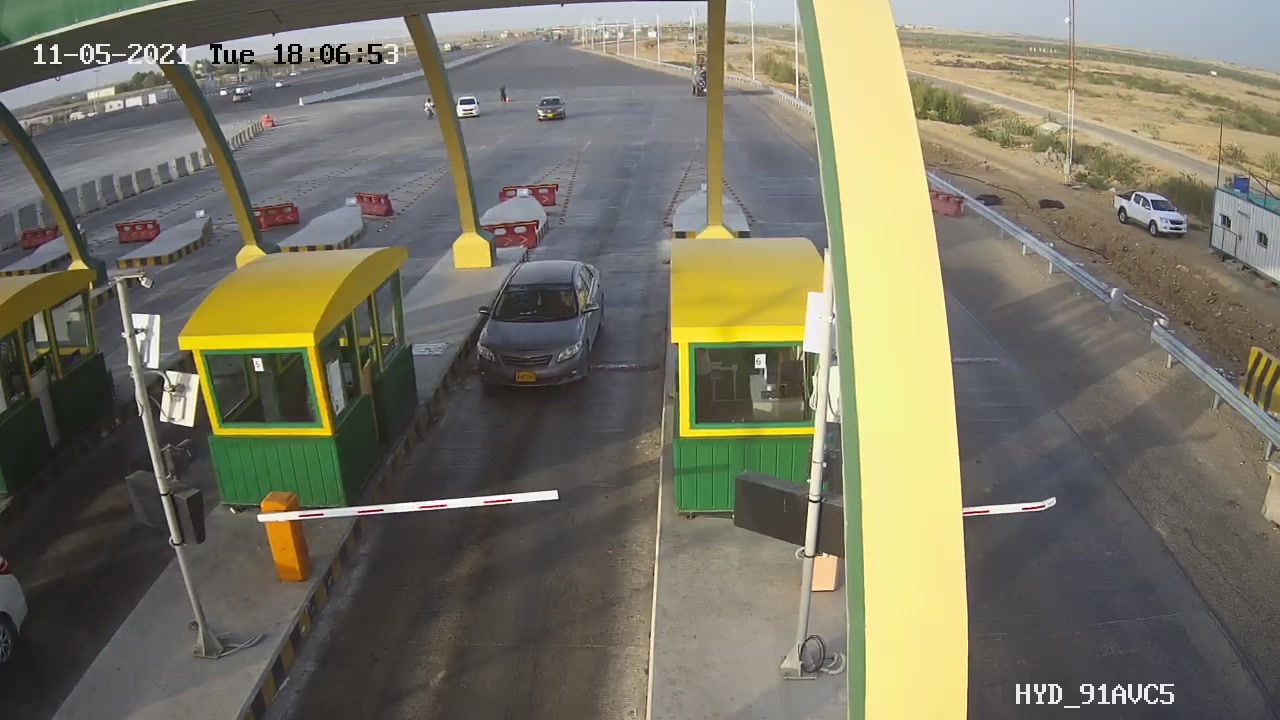F1: (456, 241, 628, 405)
